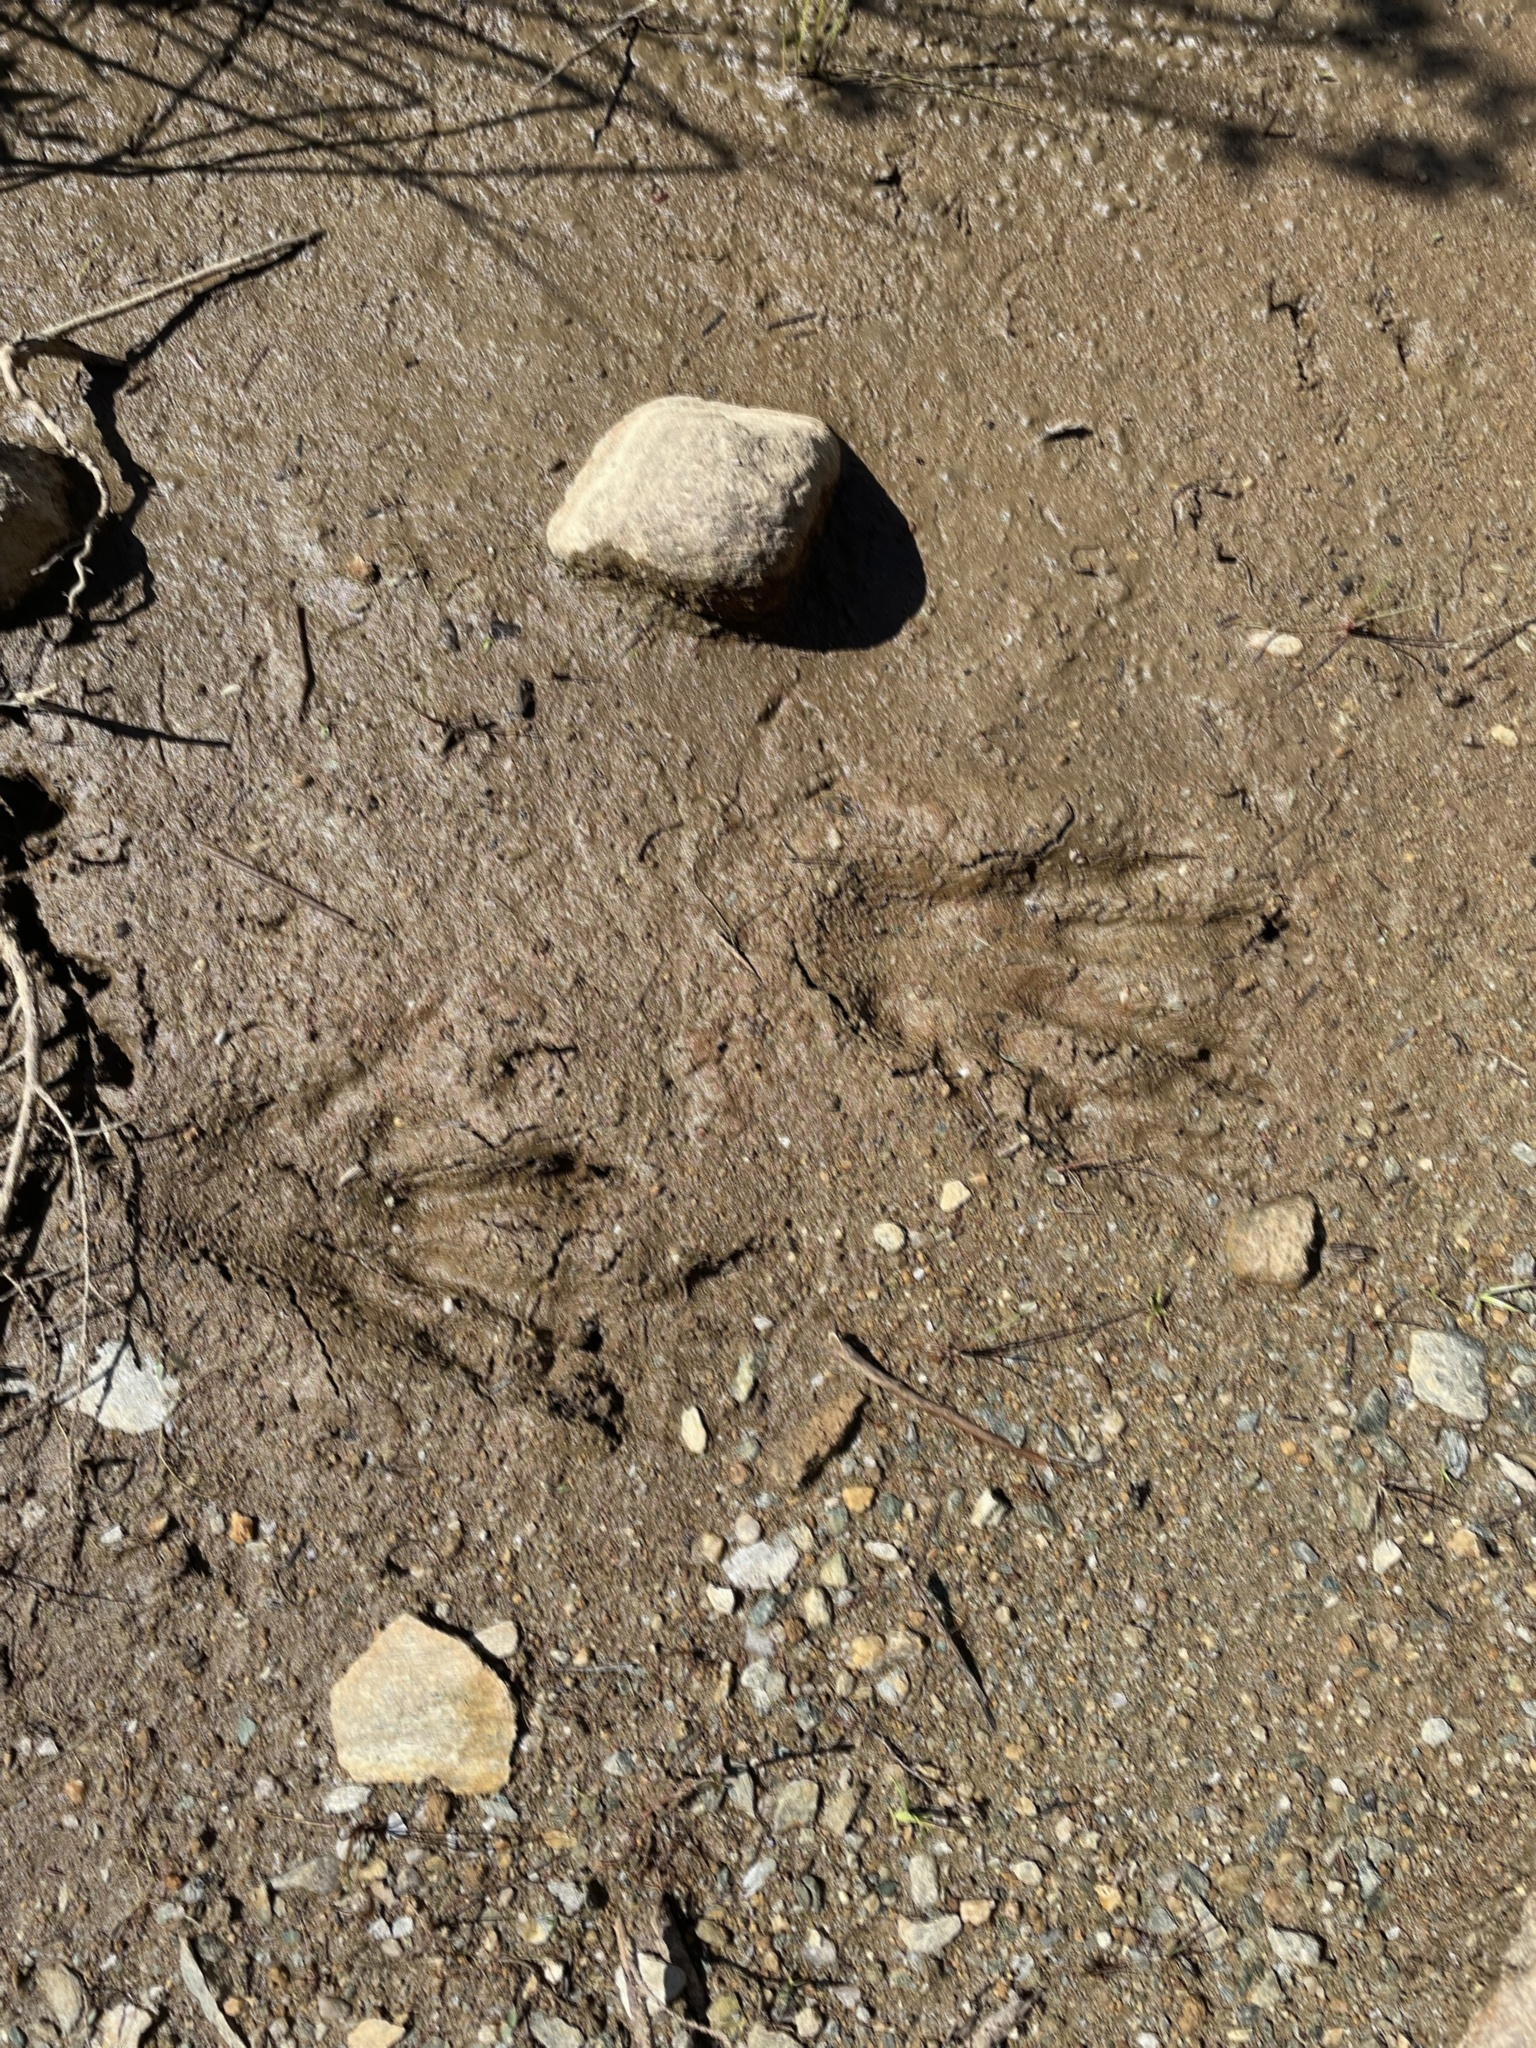beaver: (118, 1034, 728, 1524), (739, 798, 1357, 1274)
